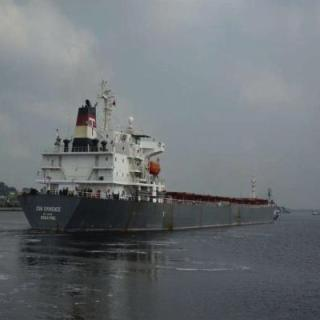Bulk Carrier: (16, 80, 270, 238)
